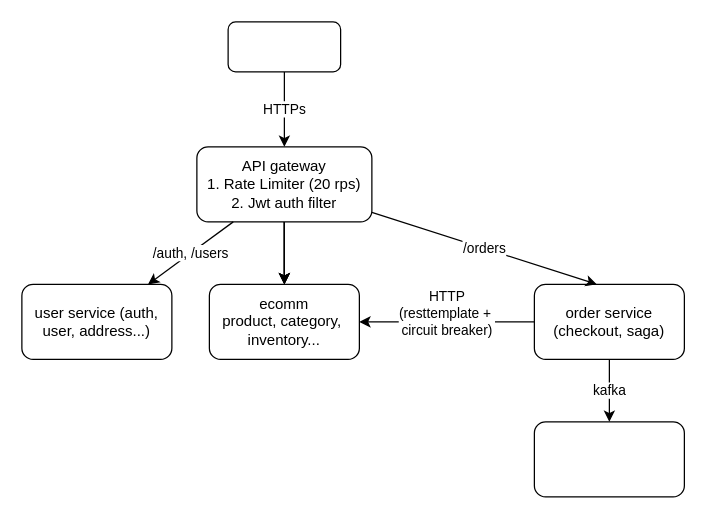
The diagram is 706 pixels wide and 519 high, and some of its shapes have lost their labels. Here are the shapes that lost their labels. From the top down, the box of each, then its label:
(227, 21, 341, 72): client
(533, 421, 684, 497): order event listener send notification, delivery...
